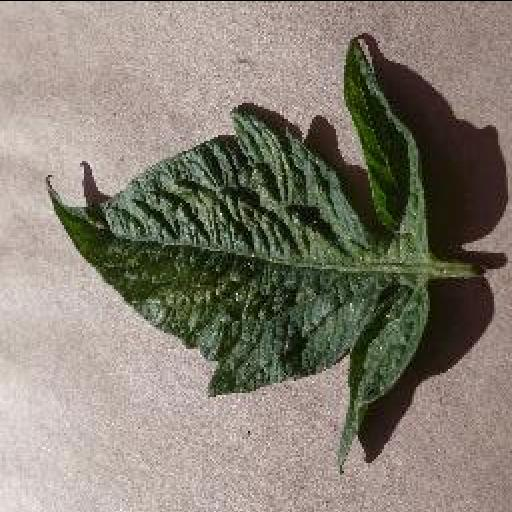disease_tomato: (45, 40, 431, 466)
